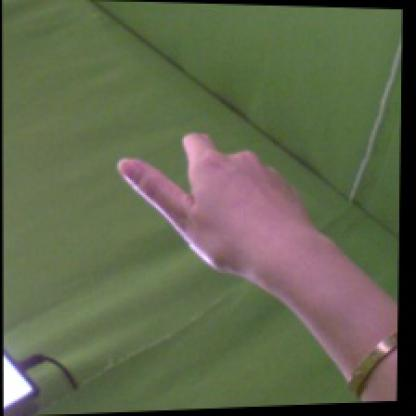Hand: (117, 131, 320, 279)
